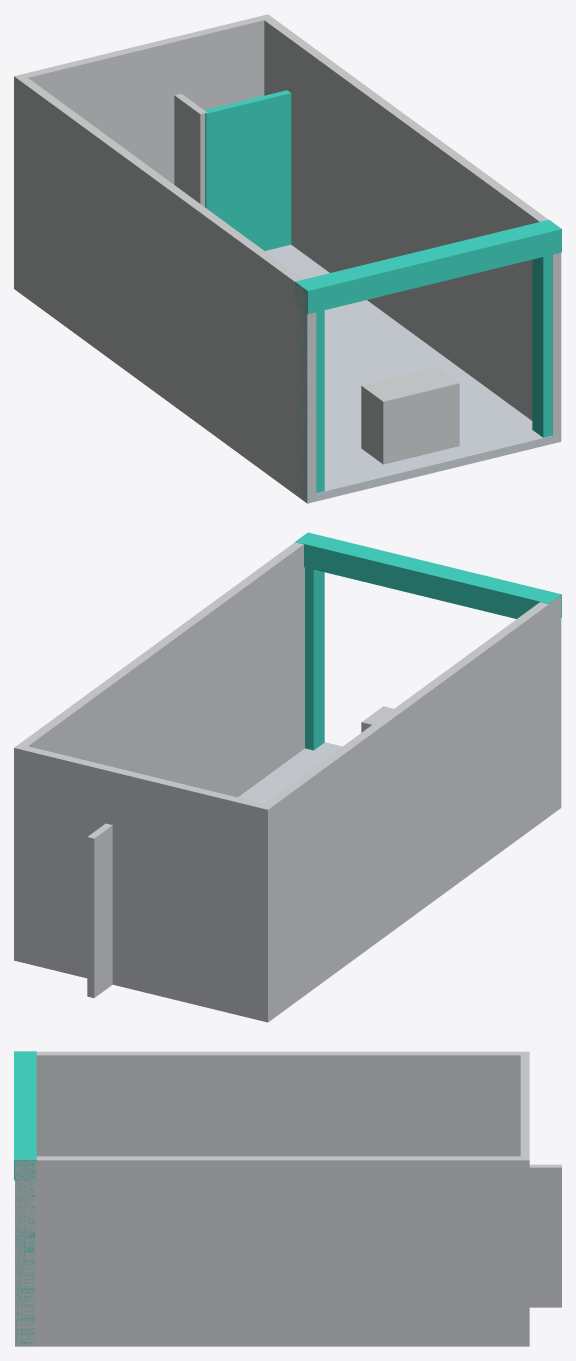
3 renders of one model, top to bottom at view 1: azimuth 30°, elevation 25°; view 2: azimuth 150°, elevation 25°; view 3: azimuth 270°, elevation 25°, orthographic. The views are drawn at different scales.
Parts seen in each view (by area): view 1: Exhibition Booth Concept; view 2: Exhibition Booth Concept; view 3: Exhibition Booth Concept.
Part boxes in pixels (x1,y1,x2,y2): Exhibition Booth Concept: [14, 14, 561, 503]; Exhibition Booth Concept: [14, 532, 561, 1022]; Exhibition Booth Concept: [14, 1051, 561, 1346].
Size of the model in its own units: 4 by 3.2 by 8.52.
